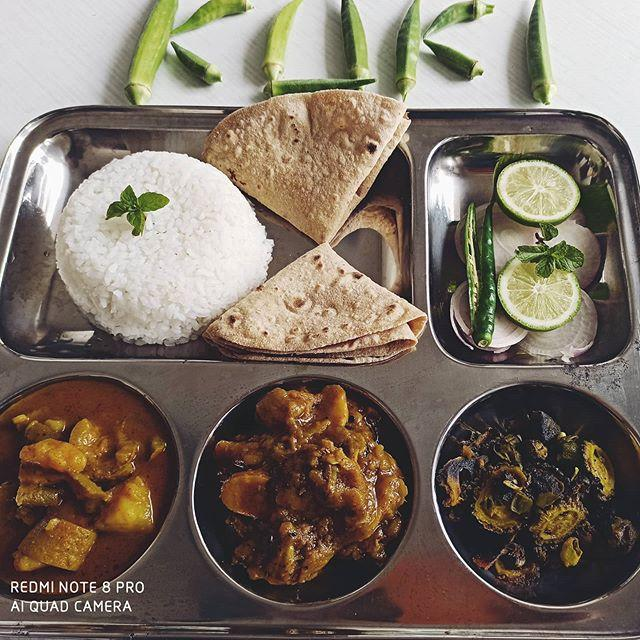Roti: (212, 91, 418, 232), (220, 246, 430, 372)
White Rice: (40, 142, 270, 329)
